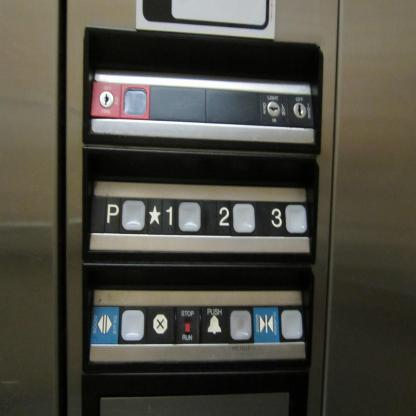2: (203, 198, 255, 238)
3: (256, 200, 309, 238)
P: (92, 194, 146, 236)
alarm: (201, 302, 254, 346)
close: (252, 304, 304, 344)
keyhole: (90, 80, 152, 120), (259, 92, 288, 128), (286, 93, 314, 129)
open: (89, 303, 146, 345)
s1: (147, 195, 203, 236)
stop: (146, 302, 201, 344)
